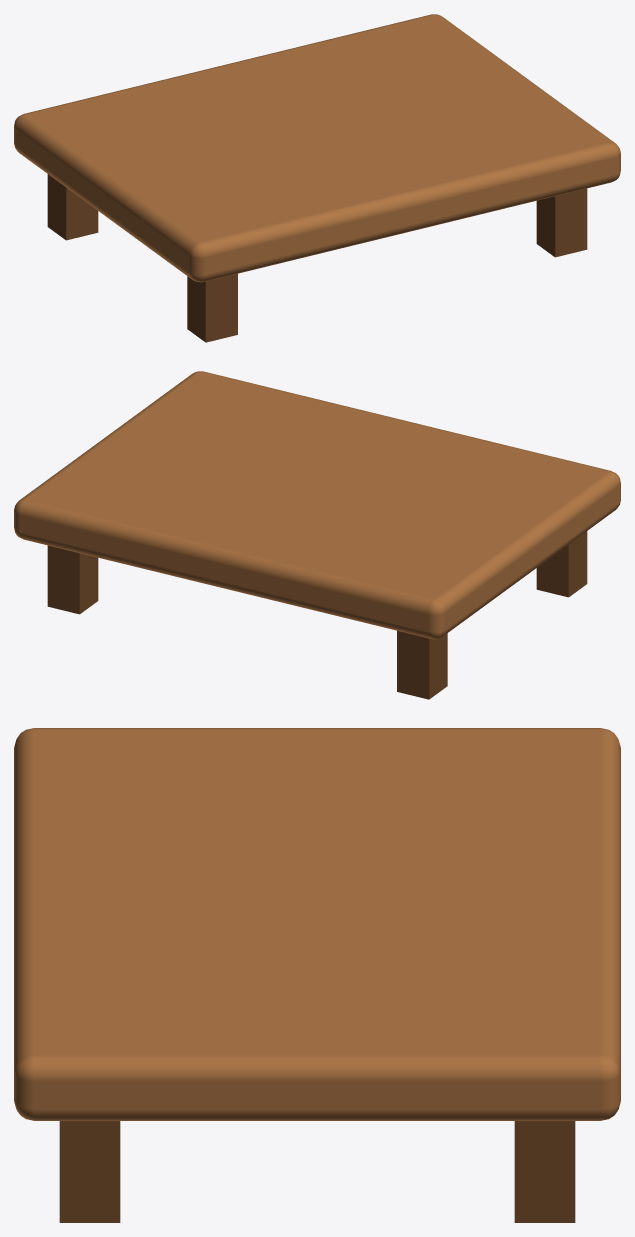
Rendered from cash_table.glb.
3 renders of one model, top to bottom at view 1: azimuth 30°, elevation 25°; view 2: azimuth 150°, elevation 25°; view 3: azimuth 270°, elevation 25°, orthographic. The views are drawn at different scales.
Parts seen in each view (by area): view 1: CashTable; view 2: CashTable; view 3: CashTable.
Boxes of the visible parts, left/top/right/bottom form: CashTable: left=14, top=14, right=620, bottom=342; CashTable: left=14, top=371, right=620, bottom=699; CashTable: left=14, top=728, right=620, bottom=1222.
Size of the model in its own units: 1.6 by 0.39 by 1.2.
